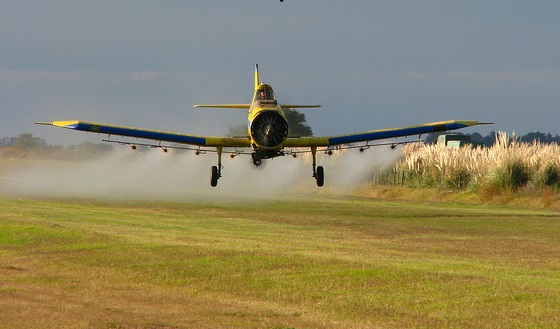Aeronef_de_service: (24, 74, 508, 188)
